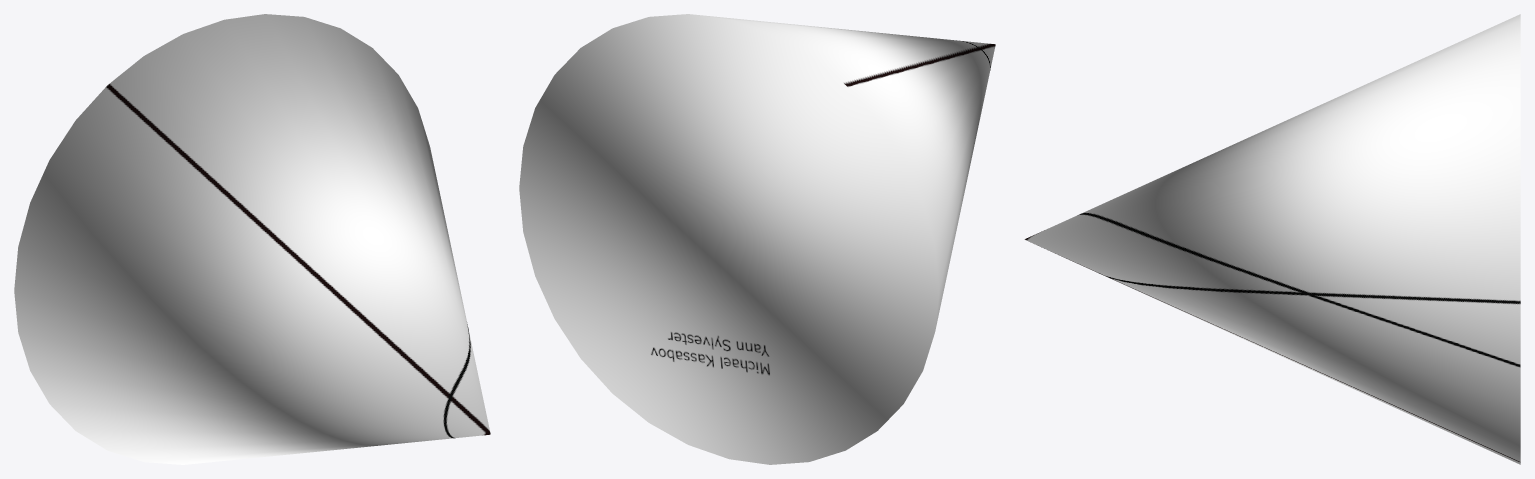
File: ConeA.obj
3 views of the same model, side by side, from view 1: azimuth 30°, elevation 25°; view 2: azimuth 150°, elevation 25°; view 3: azimuth 270°, elevation 25° (orthographic). The views are drawn at different scales.
Parts seen in each view (by area): view 1: Cone; view 2: Cone; view 3: Cone.
Part boxes in pixels (<box>): Cone: <box>14,14,490,464</box>; Cone: <box>519,14,995,464</box>; Cone: <box>1024,14,1520,464</box>.
Size of the model in its own units: 2 by 2 by 2.2.
Materials: 1 (1 with a texture image).
